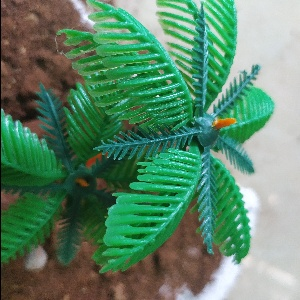plant: (1, 1, 273, 270)
